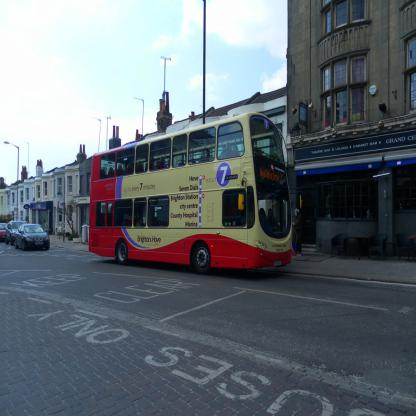Bus: (86, 109, 302, 273)
